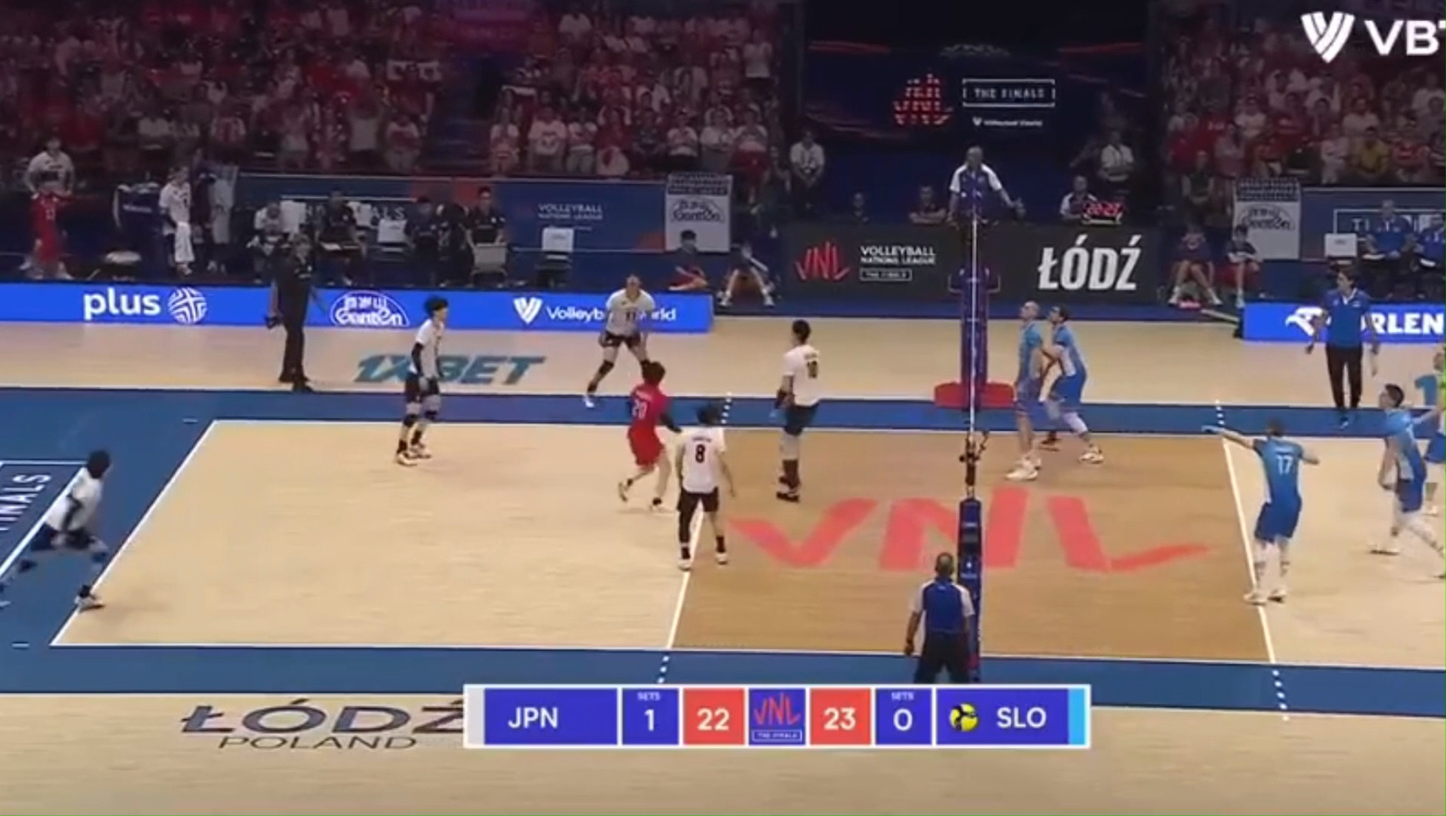player: (1213, 422, 1318, 607), (1371, 384, 1445, 557), (1040, 306, 1102, 463), (1006, 301, 1052, 481), (1424, 415, 1445, 502), (1417, 351, 1445, 412)
player 1: (0, 450, 111, 610), (674, 404, 733, 570), (583, 275, 657, 407), (394, 297, 448, 465), (618, 361, 679, 508), (774, 319, 822, 502)
referee: (1306, 268, 1379, 425), (947, 146, 1021, 292), (904, 552, 976, 683), (267, 235, 319, 392)
